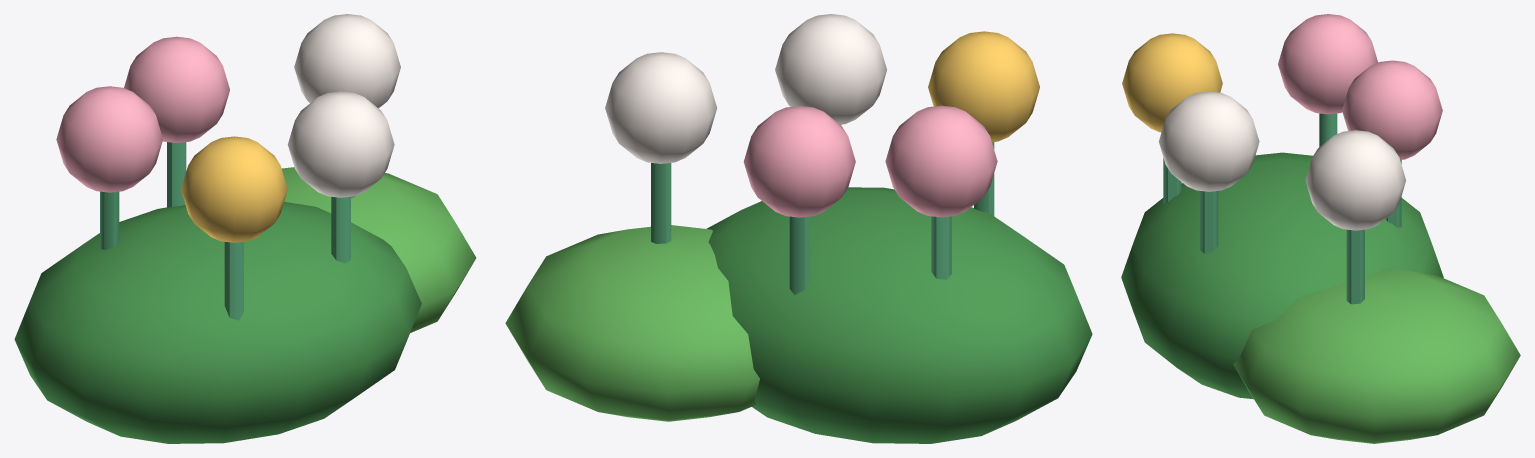
File: flower_patch.glb
3 renders of one model, left to right at view 1: azimuth 30°, elevation 25°; view 2: azimuth 150°, elevation 25°; view 3: azimuth 270°, elevation 25°, orthographic. The views are drawn at different scales.
Visible parts, largest first — view 1: flower_patch; view 2: flower_patch; view 3: flower_patch.
Boxes of the visible parts, x1,y1,x2,y2 form: flower_patch: (14,14,476,443); flower_patch: (505,14,1092,443); flower_patch: (1121,14,1520,443).
Size of the model in its own units: 0.56 by 0.375 by 0.436.
